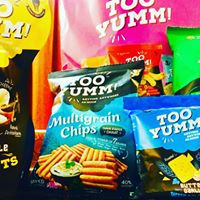plastic: (36, 61, 140, 185), (62, 2, 177, 94), (7, 1, 50, 126), (1, 44, 32, 177)
tooyumm: (102, 1, 173, 31), (146, 111, 200, 137), (62, 78, 121, 100), (1, 1, 29, 42), (118, 54, 153, 65)
wrapper: (168, 27, 200, 89)
